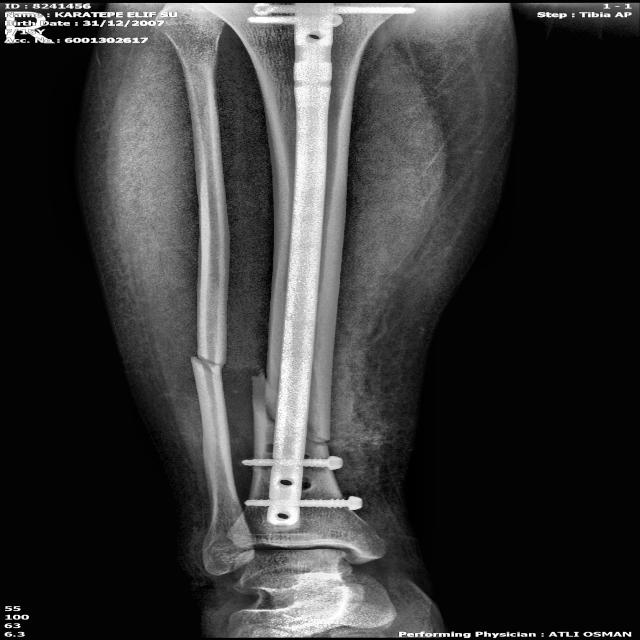Fracture: (180, 345, 234, 384)
